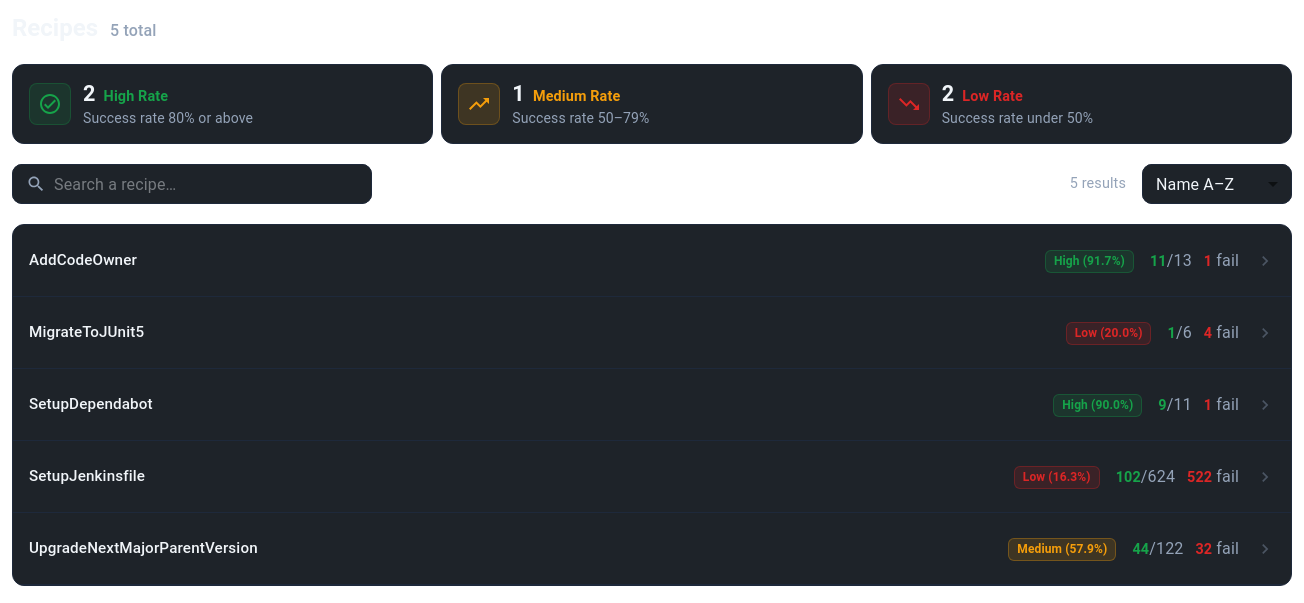
Test case: RecipeList › filters recipes by "High Rate" tier (AddCodeOwner 91.67%, SetupDependabot 90%)
This screenshot has width=1304, height=603.
Check: the text "AddCodeOwner" is shown, box left=29, top=251, right=137, bottom=269
Click the text "High Rate": (136, 97) left=104, top=88, right=168, bottom=105
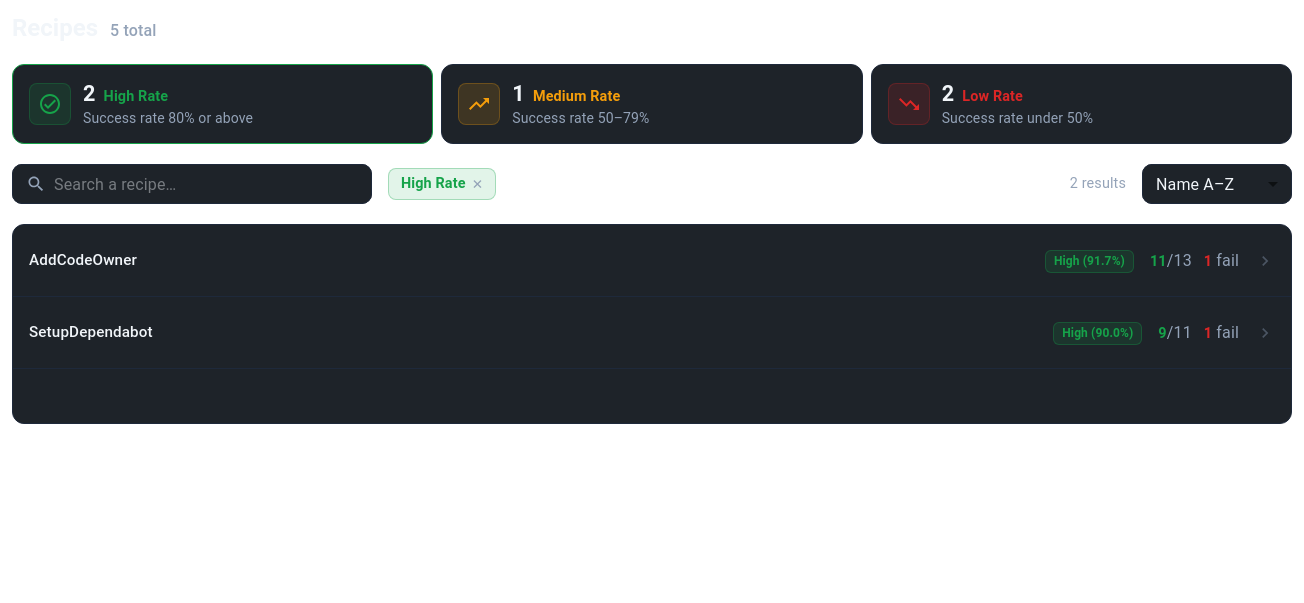
Check: the text "SetupDependabot" is shown, box left=29, top=323, right=153, bottom=341
Check: the button "UpgradeNextMajorParentVersion" is gone
Check: the button "MigrateToJUnit5" is gone
